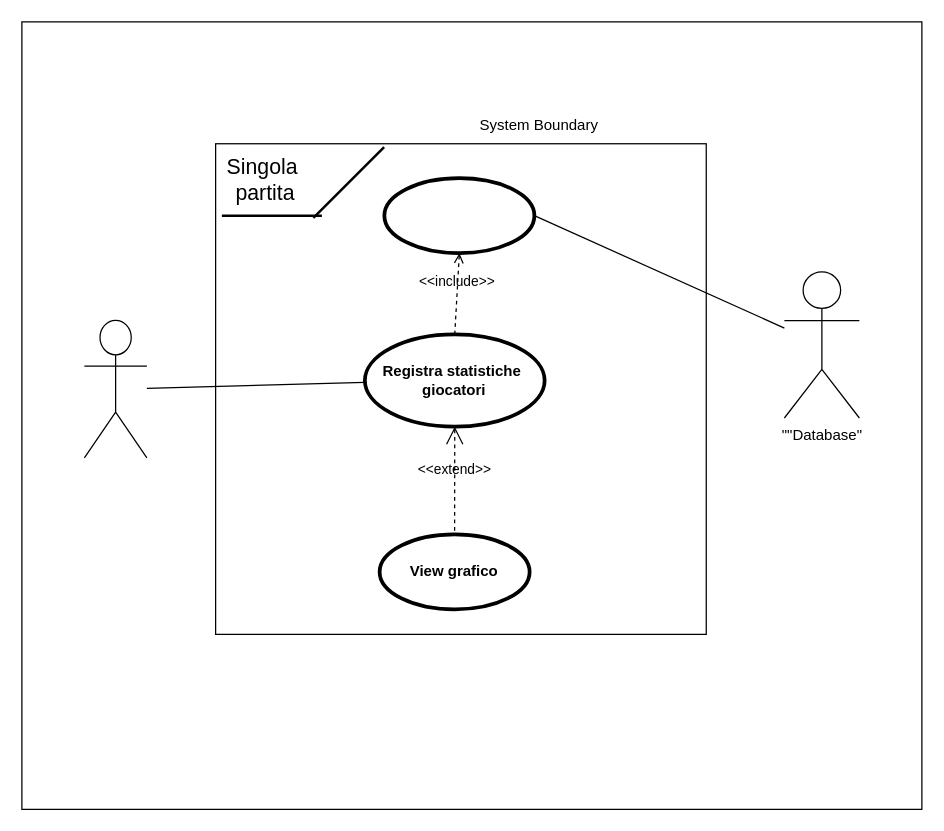
Some shapes in this 944 by 831 pixel diagram are drawn without their labels. The shapes that lost their labels are listed below. From the top down, each one's box as (x1, y1, x2, y2) in pixels, then its label:
(382, 176, 536, 254): Salva dati partita
(83, 319, 147, 458): User
